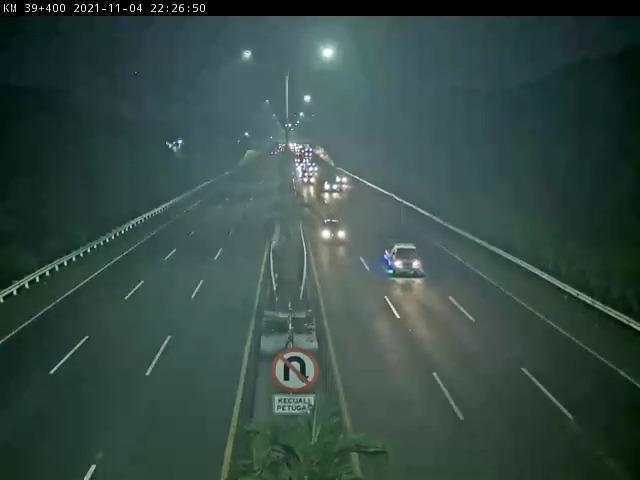car: (319, 218, 347, 245)
truck: (386, 244, 424, 278)
